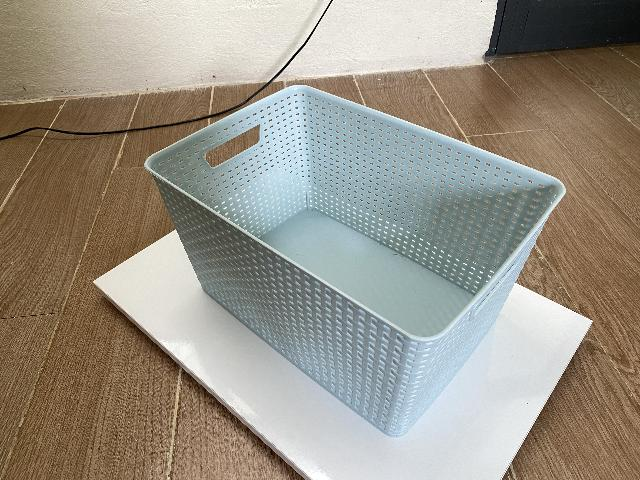cart: (143, 86, 566, 440)
